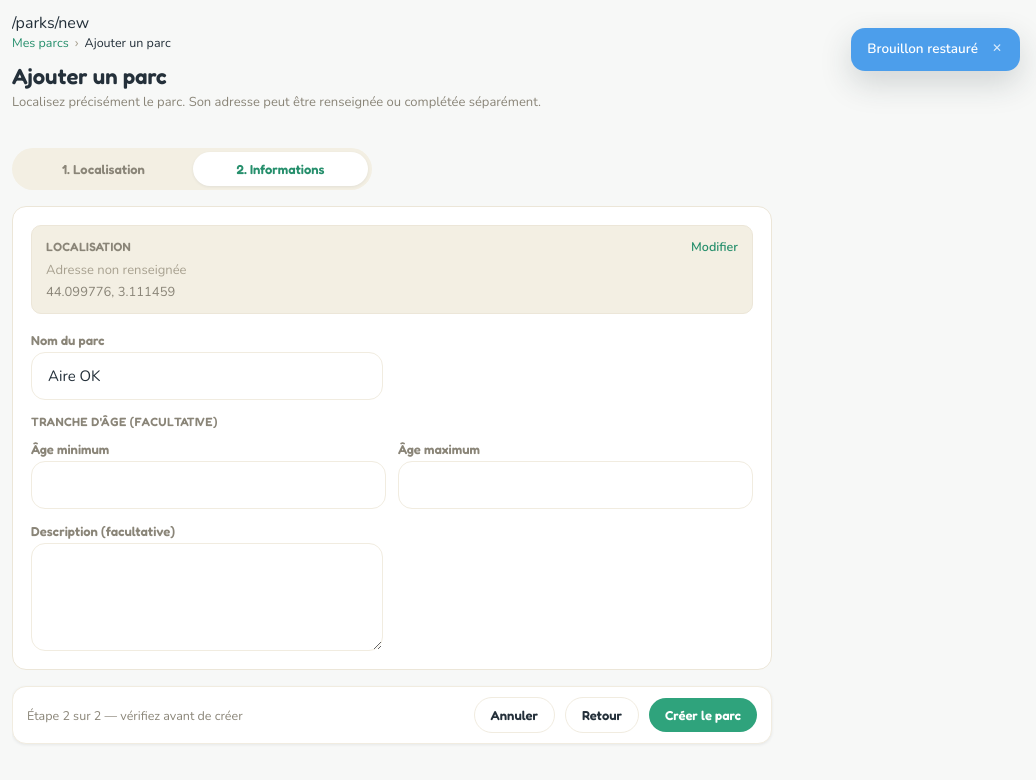
Test: ParkNew — /parks/new (Lot 3C.4) › createPark success → the draft is cleared before navigating and never reappears
Expected: the text "Brouillon restauré" is shown, [867,40,978,59]
Click the button "Créer le parc": {"x": 703, "y": 715} [649,698,757,732]
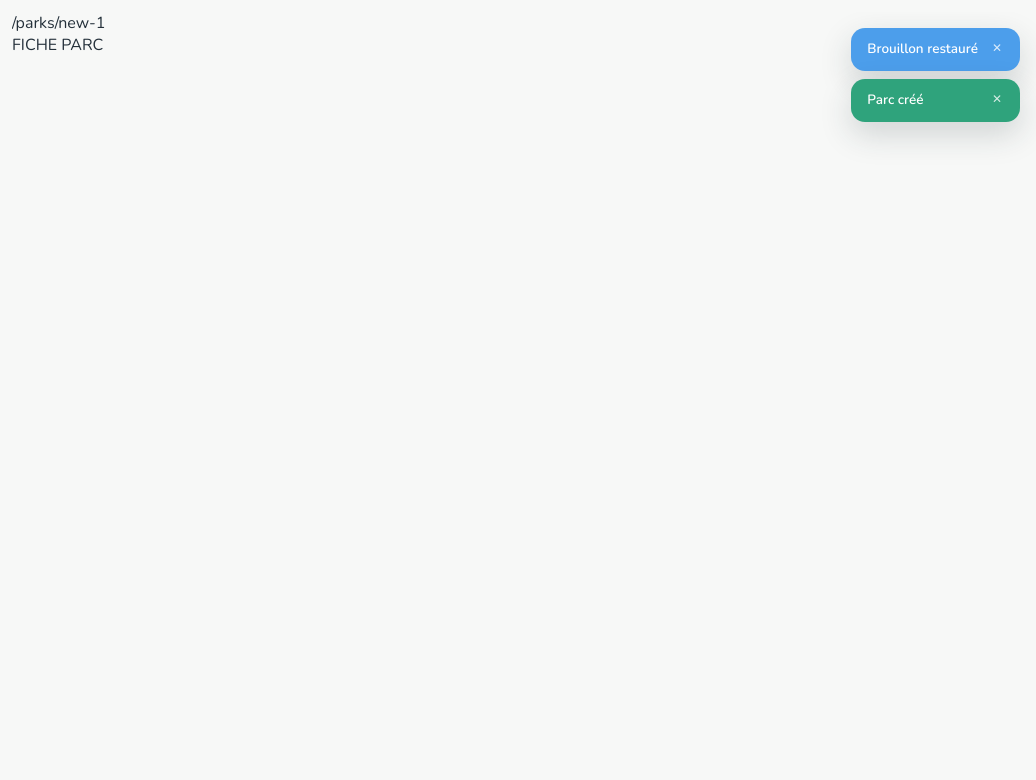
Now the text with test id "loc" reads "/parks/new-1", box [12,12,105,34]
